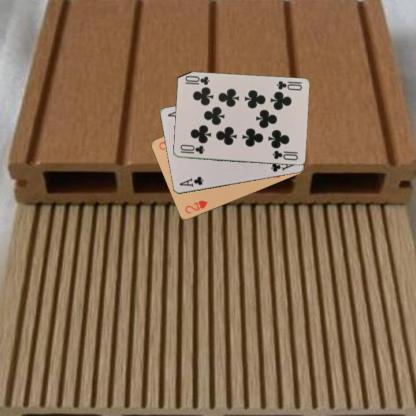10c: (177, 142, 206, 156), (274, 78, 303, 92)
2h: (182, 198, 209, 215)
Ac: (177, 174, 204, 188)
